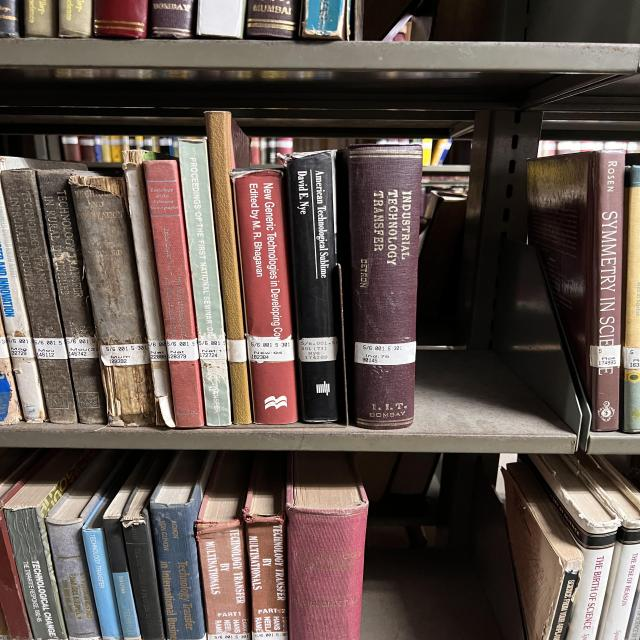Book: (527, 151, 625, 431), (347, 145, 422, 429), (70, 176, 155, 426), (2, 169, 78, 424), (3, 449, 98, 640), (37, 170, 107, 424), (143, 160, 205, 428), (233, 170, 298, 424), (285, 150, 343, 422), (285, 451, 368, 640), (205, 111, 253, 425), (180, 140, 232, 426), (45, 450, 123, 640), (123, 150, 175, 428), (505, 462, 583, 640), (150, 450, 215, 640), (0, 184, 47, 422), (0, 451, 55, 640), (197, 451, 252, 640), (103, 451, 155, 640), (122, 451, 172, 640), (243, 452, 288, 640), (558, 504, 615, 640), (597, 482, 640, 640), (622, 166, 640, 432), (82, 525, 122, 640), (0, 319, 22, 425), (245, 0, 300, 39), (93, 0, 148, 39), (197, 0, 247, 39), (300, 0, 348, 40), (150, 0, 197, 39), (23, 0, 58, 38), (58, 0, 92, 38), (0, 156, 80, 170), (587, 464, 608, 482), (97, 496, 110, 516)
Label: (355, 341, 417, 365), (247, 335, 295, 362), (100, 344, 150, 366), (298, 336, 338, 362), (590, 345, 622, 368), (33, 338, 68, 359), (165, 339, 198, 361), (65, 338, 98, 359), (198, 339, 227, 360), (7, 338, 35, 358), (227, 339, 247, 362), (148, 340, 168, 361), (0, 320, 10, 359), (622, 348, 640, 369), (252, 631, 287, 640)
